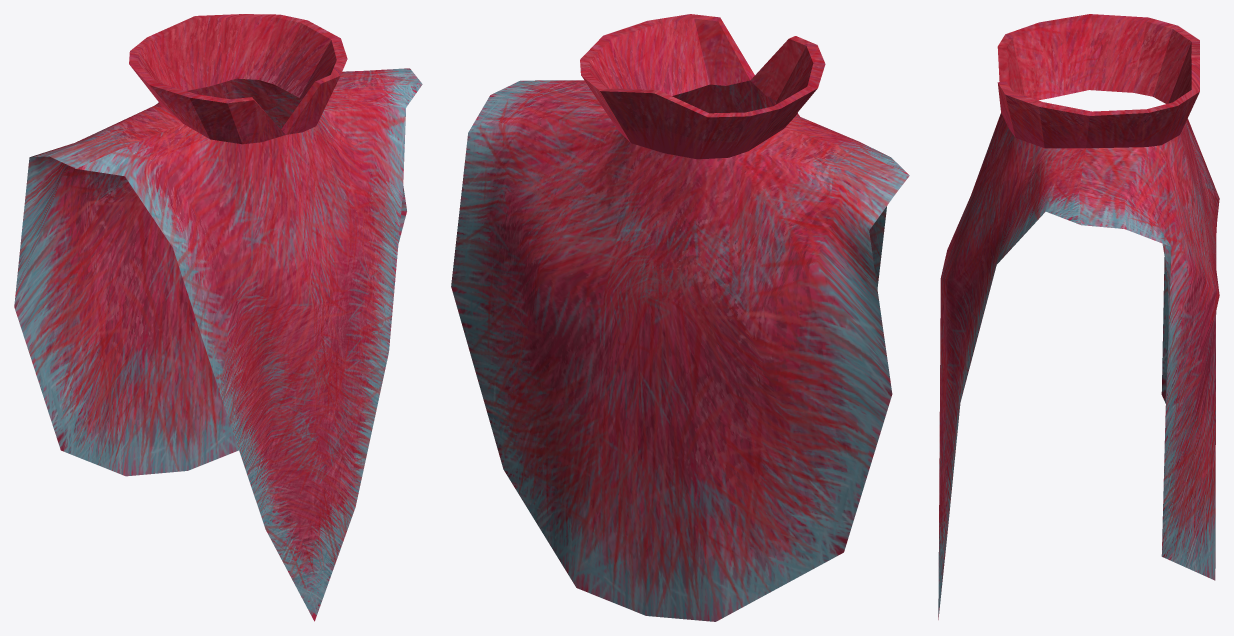
File: cloak102.fbx
3 renders of one model, left to right at view 1: azimuth 30°, elevation 25°; view 2: azimuth 150°, elevation 25°; view 3: azimuth 270°, elevation 25°, orthographic. The views are drawn at different scales.
Visible parts, largest first — view 1: Circle027; view 2: Circle027; view 3: Circle027.
Part boxes in pixels (x1=…): Circle027: x1=14, y1=14, x2=422, y2=621; Circle027: x1=451, y1=14, x2=909, y2=621; Circle027: x1=938, y1=14, x2=1219, y2=619.
Size of the model in its own units: 111 by 140 by 62.84.
Materials: 1 (1 with a texture image).
